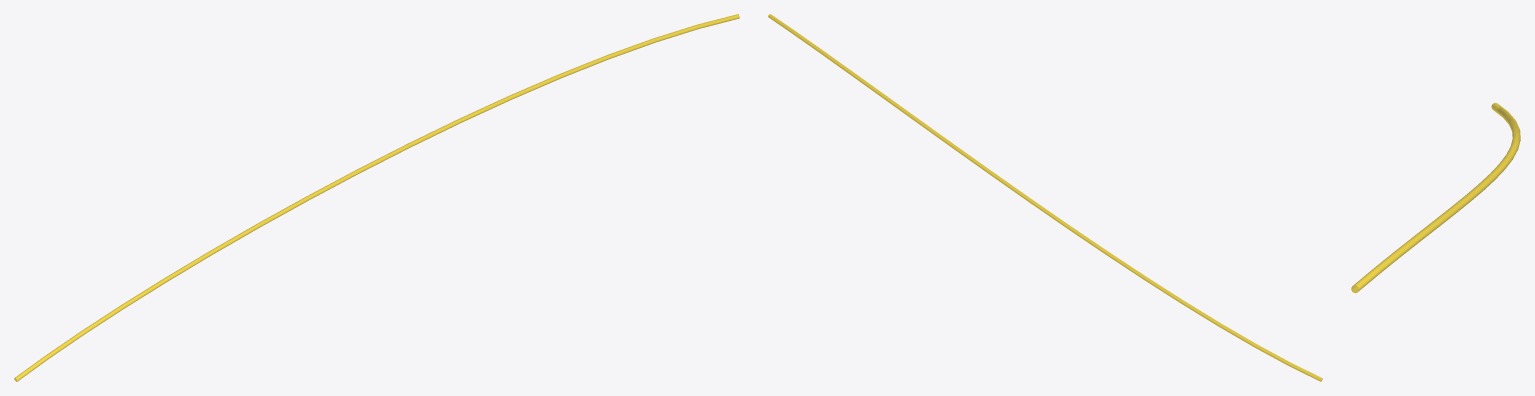
The model's file is Event_27938768_track_20.fbx.
The picture shows the model from 3 angles, left to right: view 1: azimuth 30°, elevation 25°; view 2: azimuth 150°, elevation 25°; view 3: azimuth 270°, elevation 25°; orthographic projection. The views are drawn at different scales.
Visible parts, largest first — view 1: Model; view 2: Model; view 3: Model.
Part boxes in pixels (x1,y1,x2,y2): Model: (14,14,739,381); Model: (768,14,1322,381); Model: (1351,103,1520,293).
Size of the model in its own units: 6.69 by 2.16 by 0.8341.
